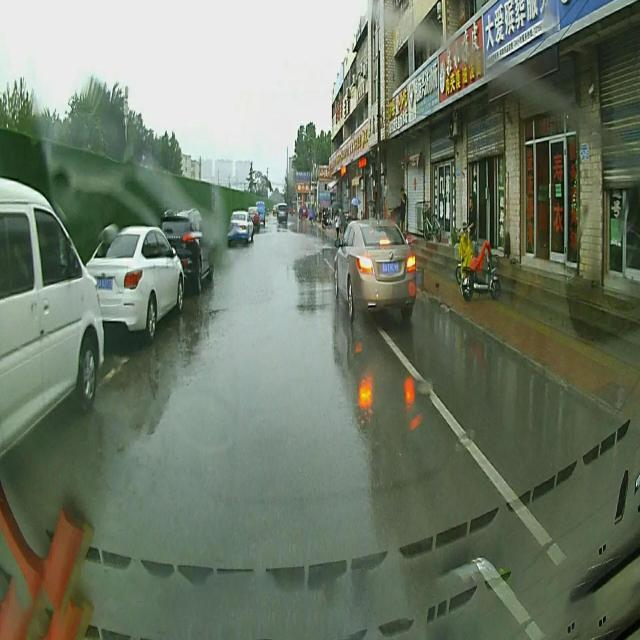car: (0, 175, 104, 452), (87, 225, 183, 334), (332, 217, 418, 316), (157, 203, 214, 296), (225, 211, 253, 247), (276, 206, 288, 223)
